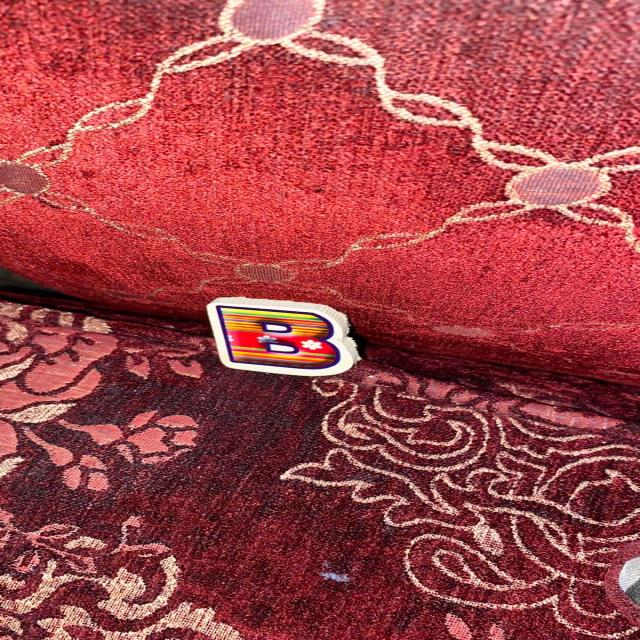B: (207, 297, 358, 376)
